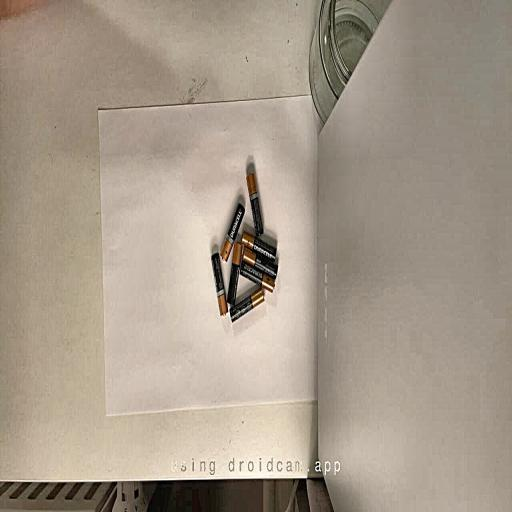DuracellAAA: (220, 203, 244, 262), (246, 165, 263, 236), (230, 288, 264, 322), (211, 252, 228, 316), (244, 247, 278, 278), (240, 262, 274, 292), (242, 231, 276, 260), (227, 242, 242, 304)
